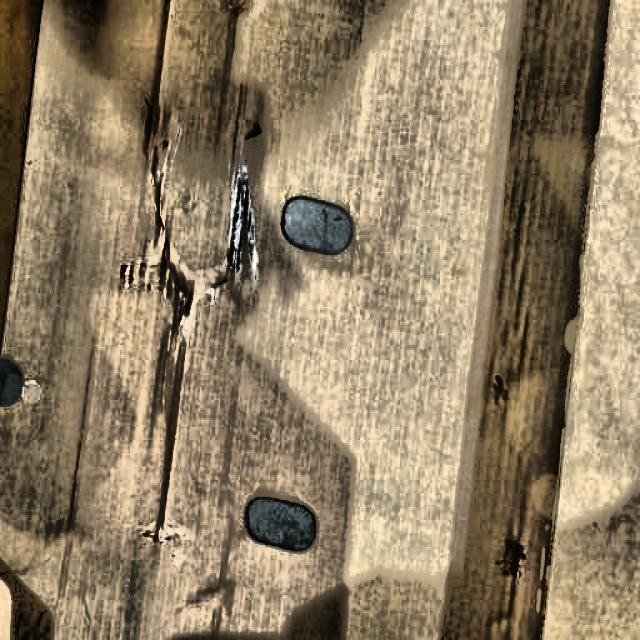cardboard: (0, 0, 617, 638)
